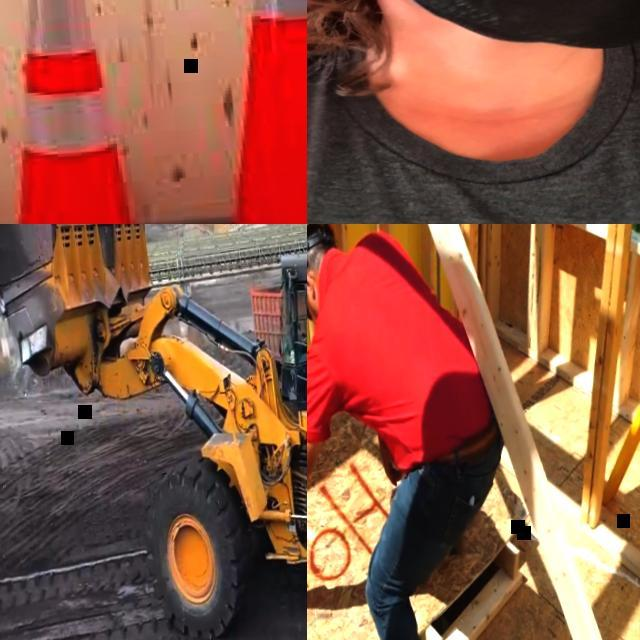helmet: (307, 224, 340, 318)
